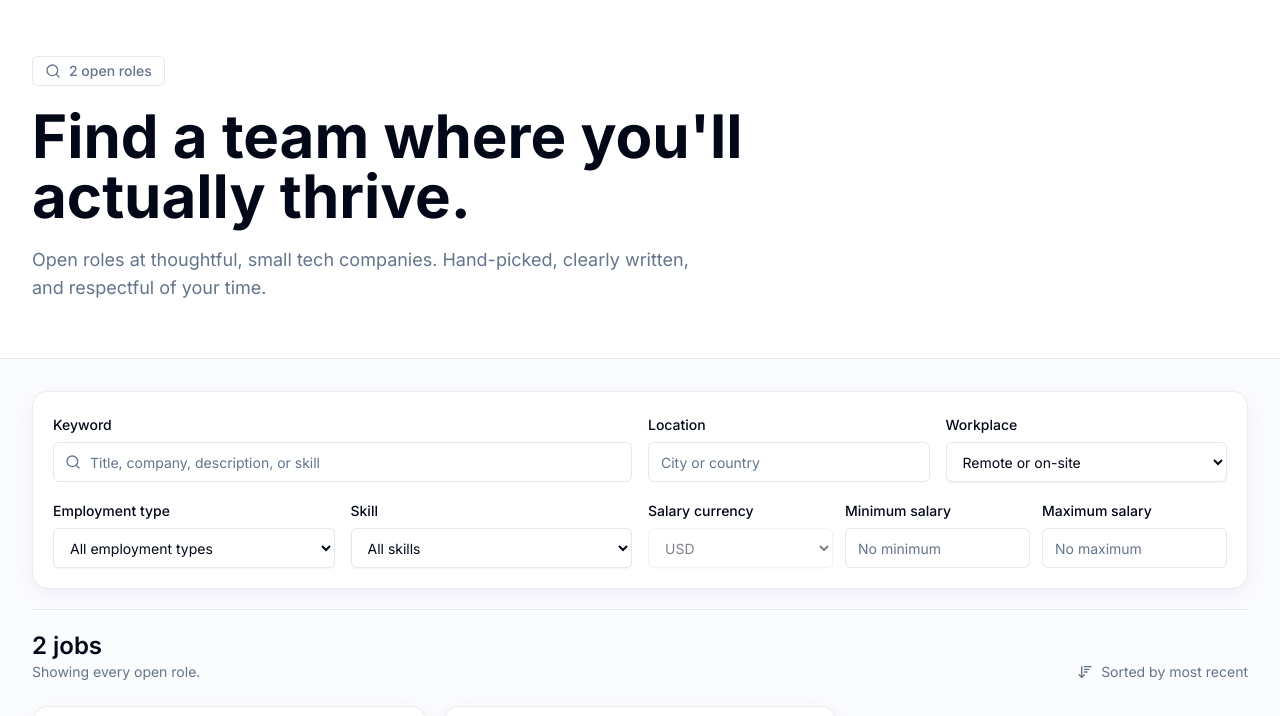
Test: JobsPage › renders API jobs and filters them by the derived skill options
Check: the text "2 open roles" is shown, box [32,56,165,86]
Select "React" in the dropdown labelled "Skill": (491, 548) [350,528,632,568]
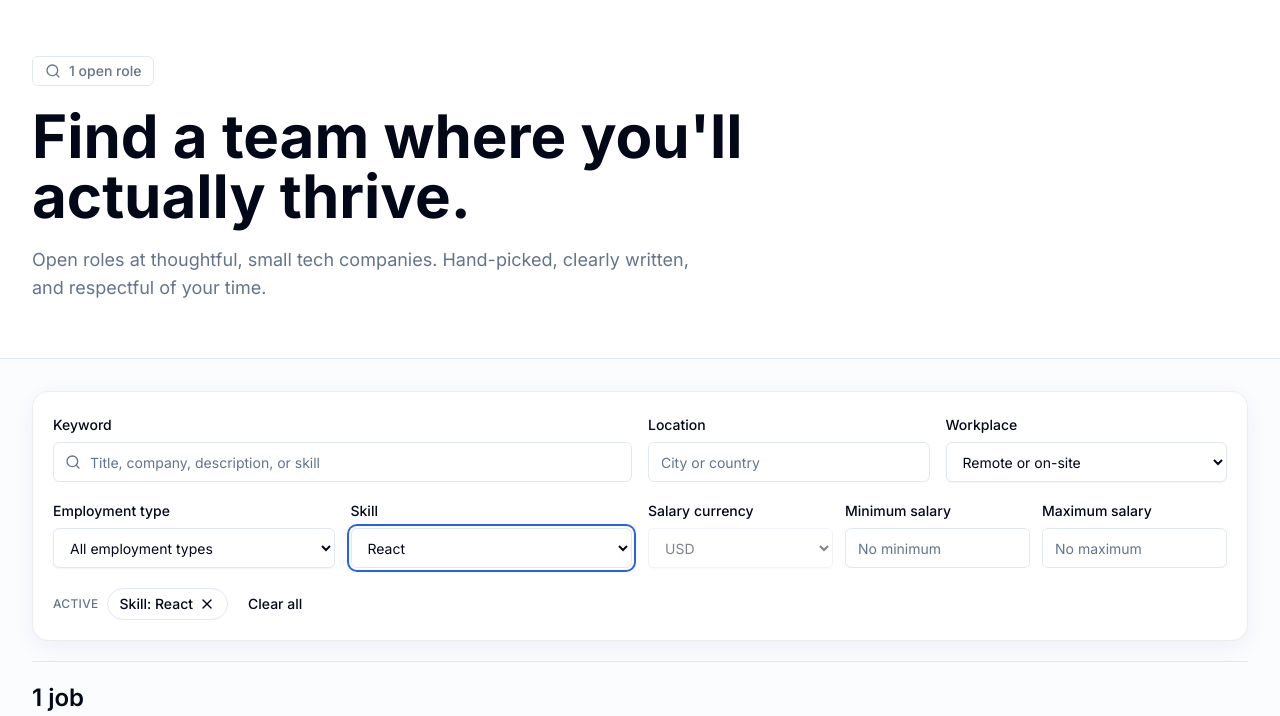
Check: the heading "1 job" is shown, box [32,683,84,712]
Check: the button with aria-label "Remove Skill: React filter" is shown, box [106,588,228,620]
